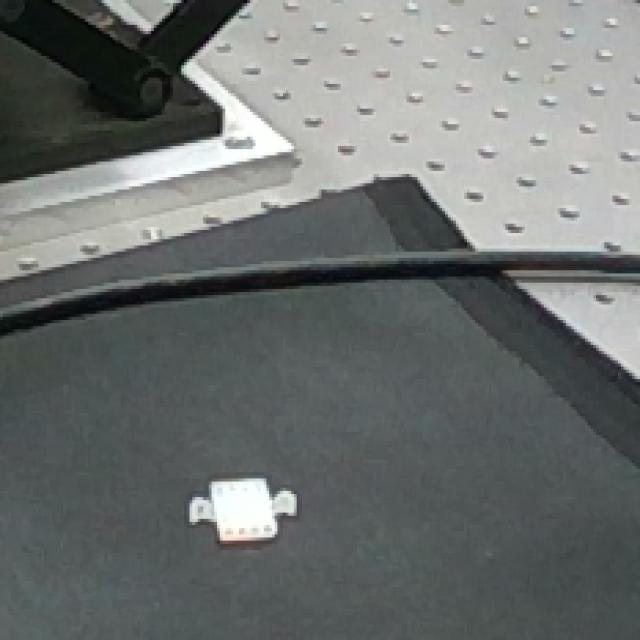Target: (176, 466, 306, 555)
